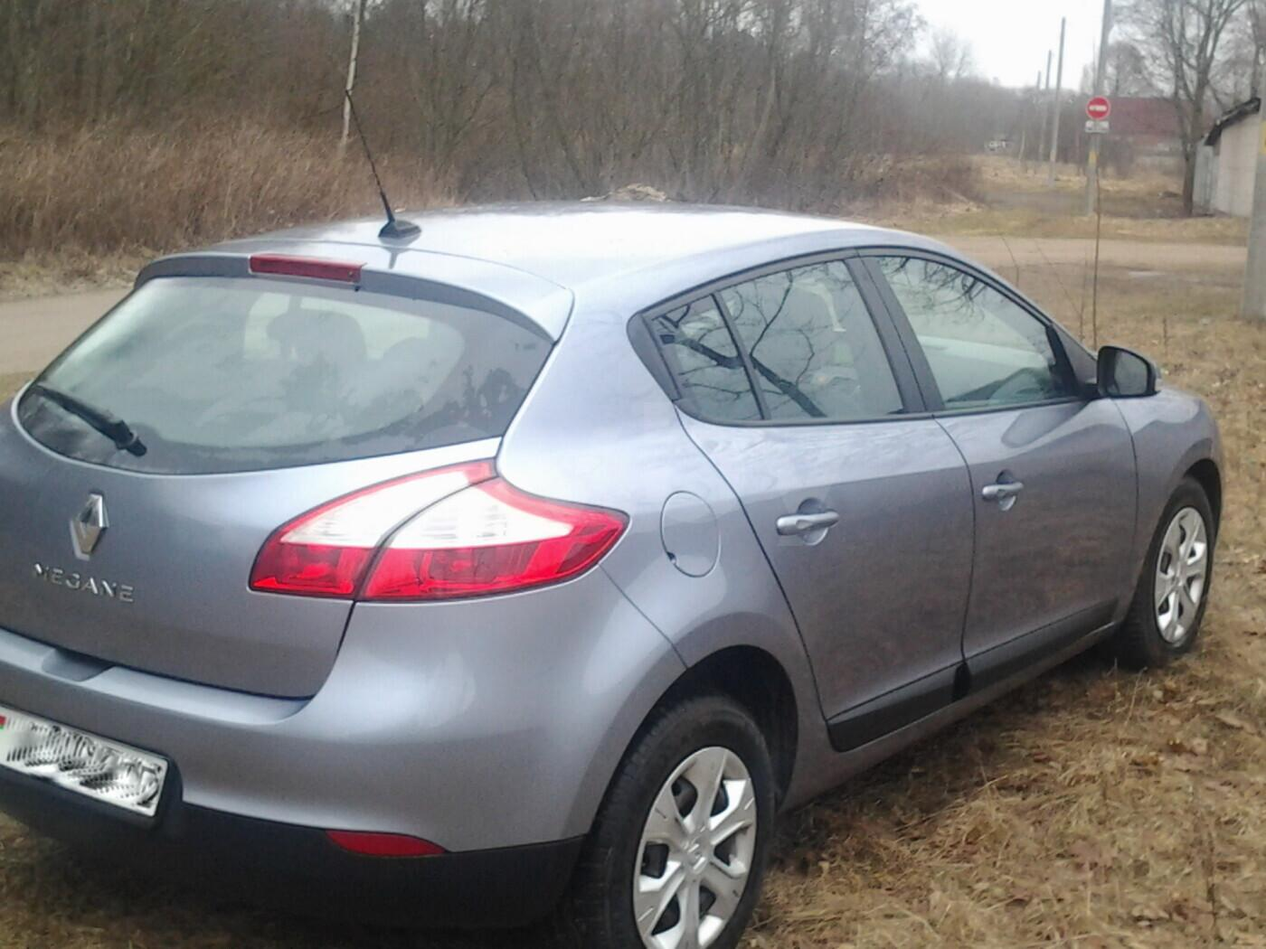Megane_2008-2014: (0, 196, 1232, 949)
